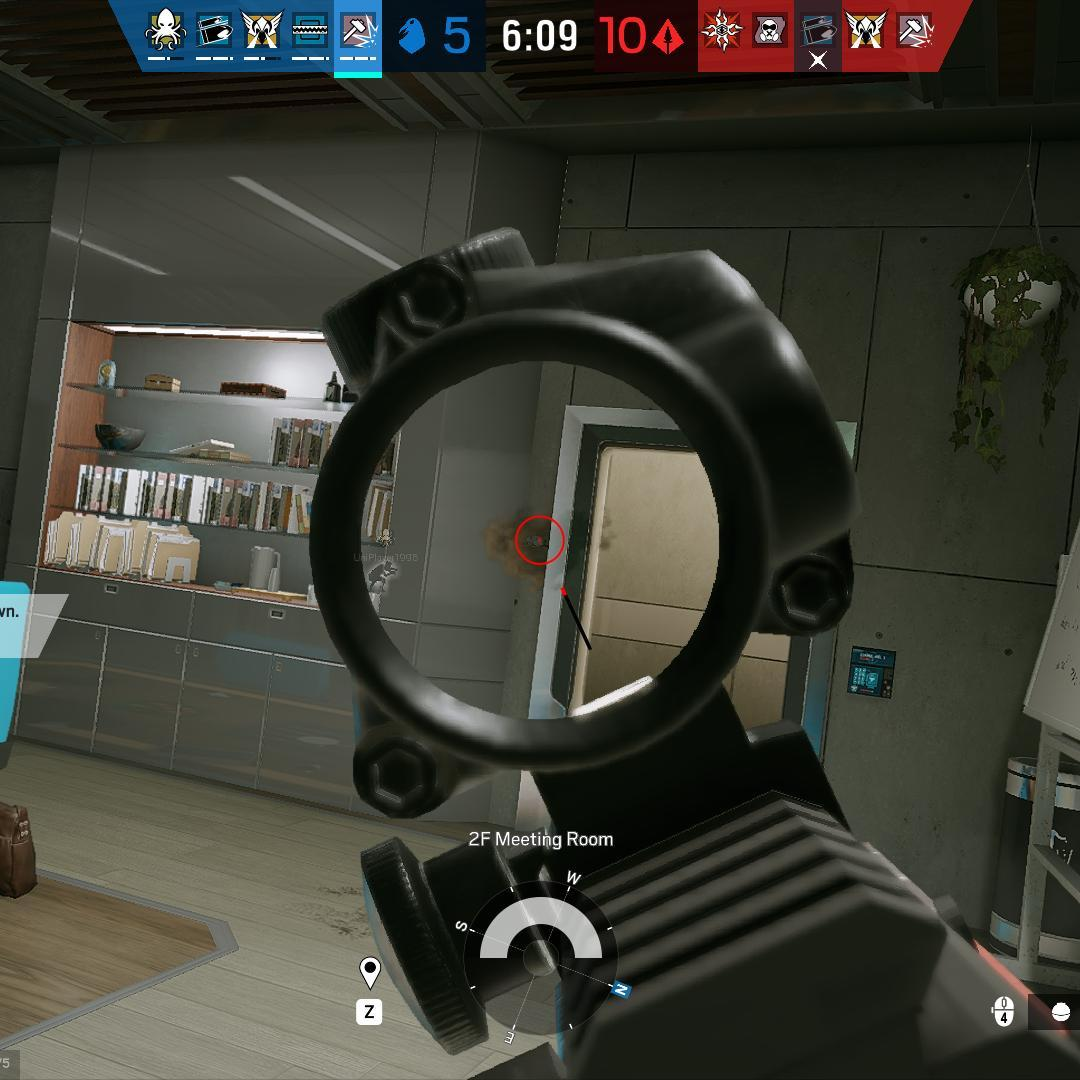Friend_label: (350, 526, 423, 565)
